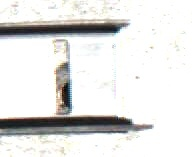40ngpress: (15, 20, 147, 132)
